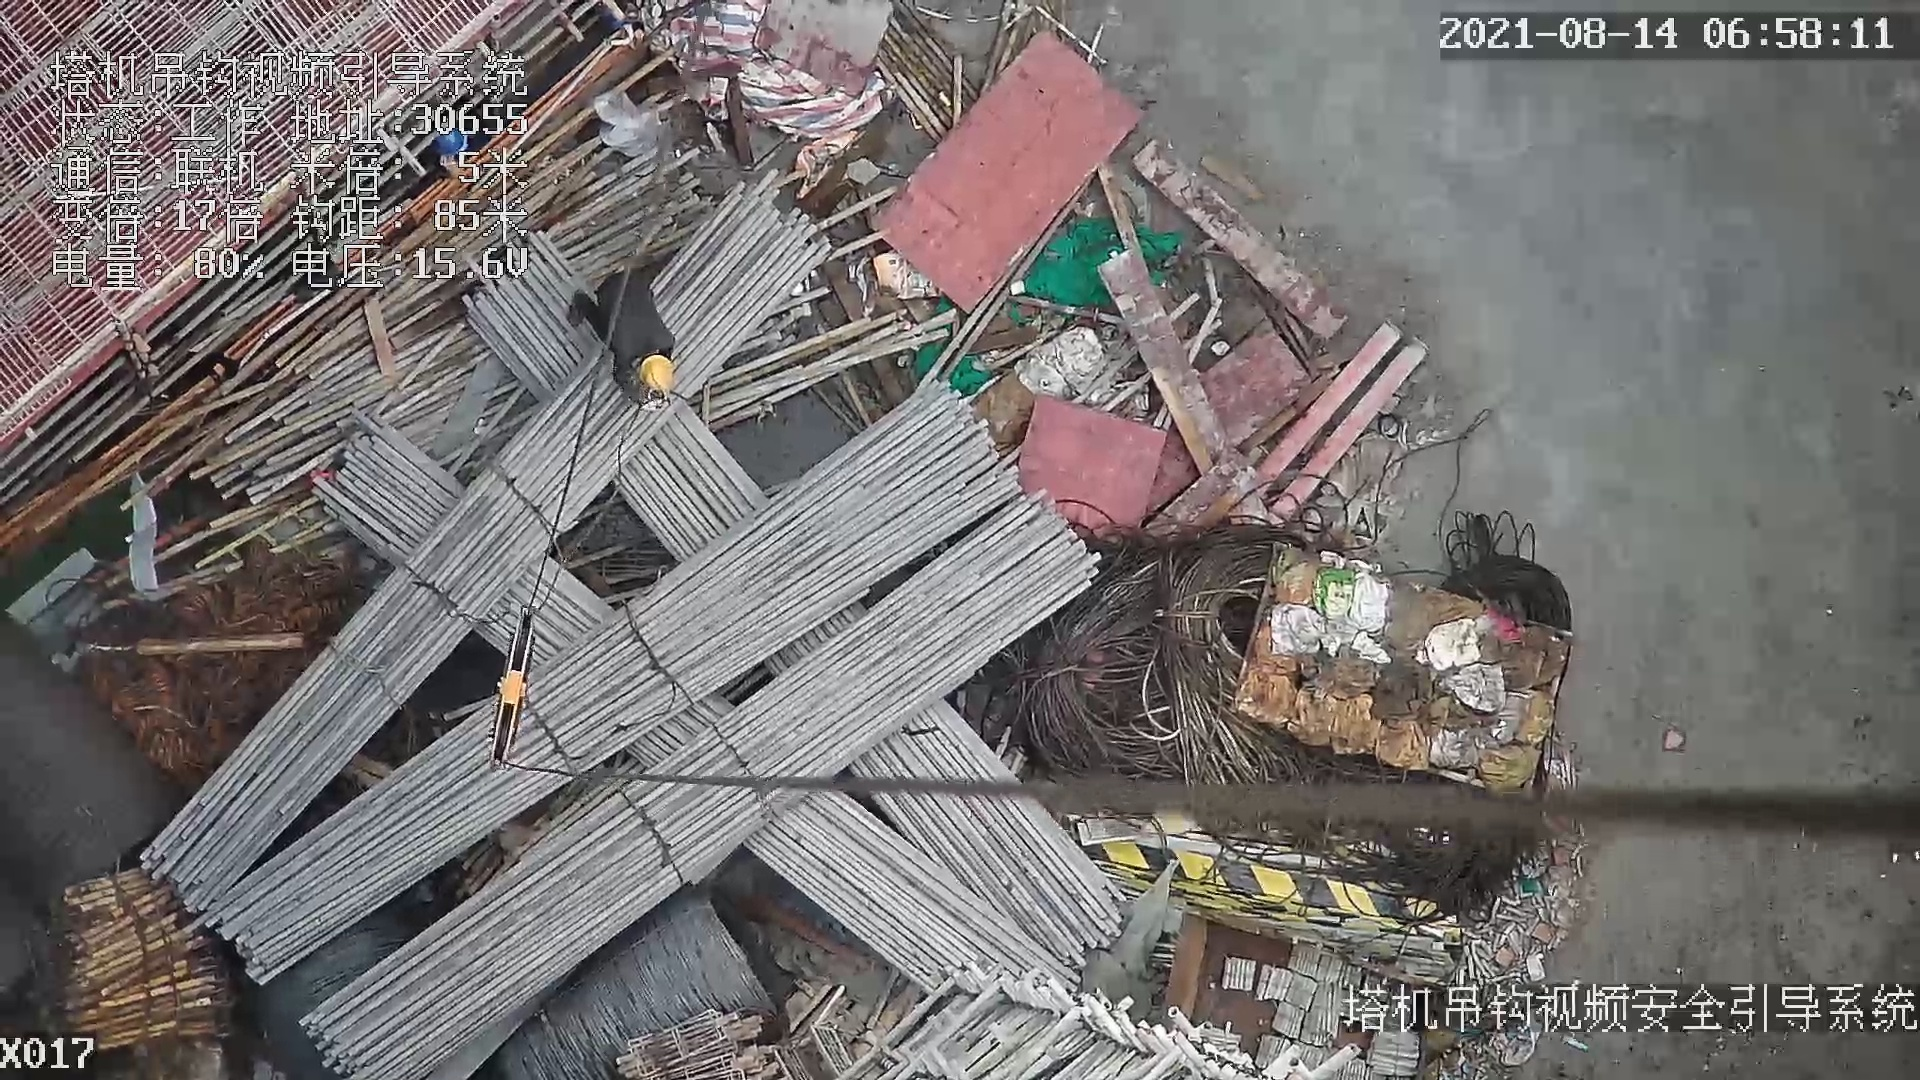helmet: (638, 355, 673, 391)
hook: (485, 601, 535, 772)
person: (564, 268, 681, 404)
rebar: (140, 179, 821, 910), (200, 383, 1021, 987), (299, 495, 1100, 1080), (848, 701, 1128, 956), (744, 789, 1083, 989)
scaffold: (62, 868, 233, 1051)
